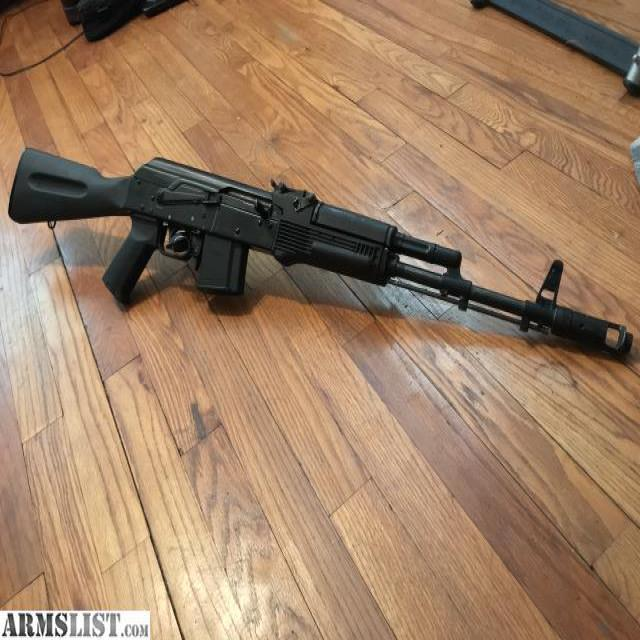weapon: (8, 146, 634, 360)
